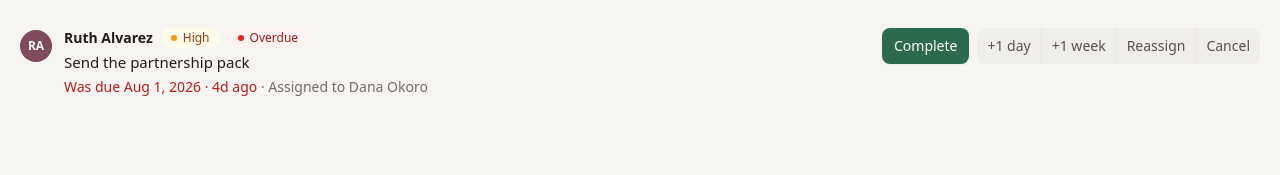
it: FollowUpQueue › reports a refusal as an alert and leaves the row alone
Click the button with aria-label "snooze +1 day": (1009, 46) [978,28,1041,64]
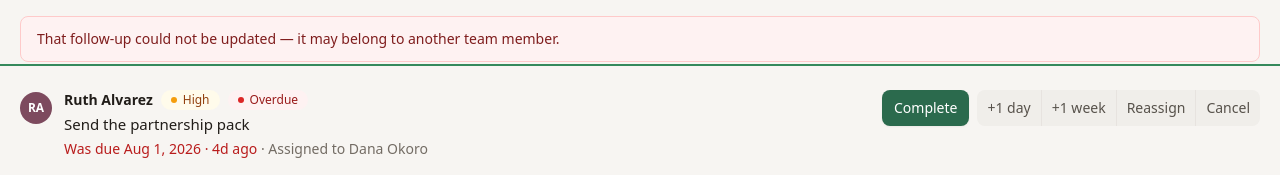
Expected: the text "Send the partnership pack" is shown, [64,114,250,134]
Now the message shows "another team member", box [37,29,559,48]
